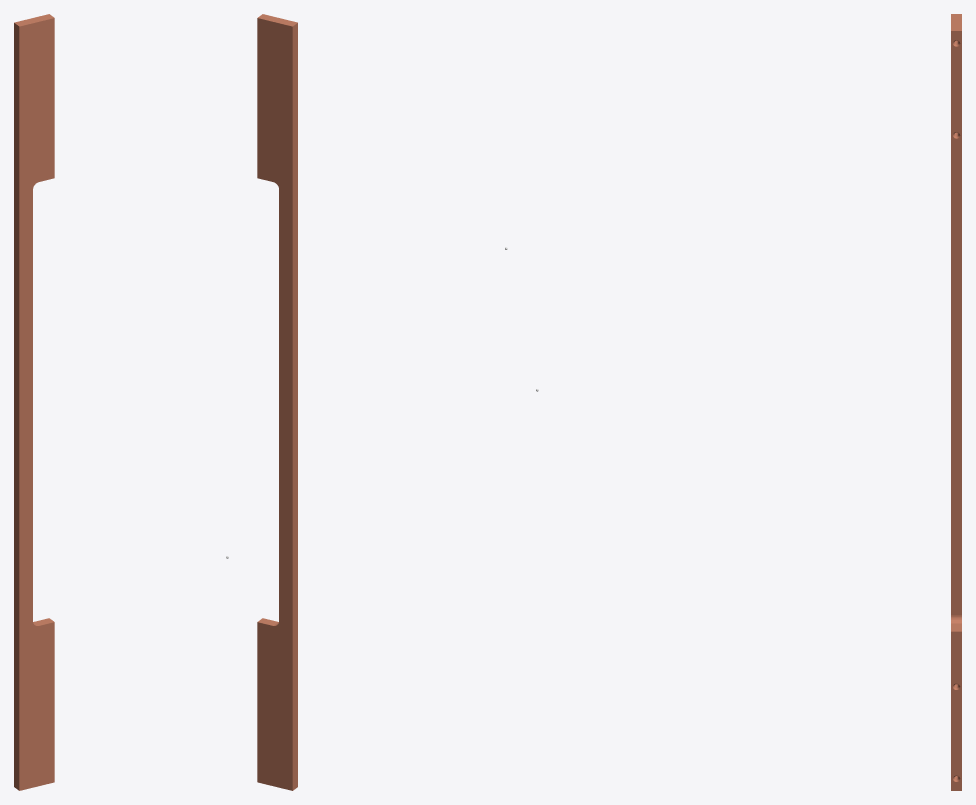
The model's file is 134 pvd r gold.glb.
3 views of the same model, side by side, from view 1: azimuth 30°, elevation 25°; view 2: azimuth 150°, elevation 25°; view 3: azimuth 270°, elevation 25° (orthographic).
Visible parts, largest first — view 1: CABINET_HANDLE_134; view 2: CABINET_HANDLE_134; view 3: CABINET_HANDLE_134.
Boxes of the visible parts, x1,y1,x2,y2 form: CABINET_HANDLE_134: (14,14,54,790); CABINET_HANDLE_134: (257,14,297,790); CABINET_HANDLE_134: (951,14,961,790).
Bounding box in the file's own units: 1.21 × 24.11 × 12.25.
